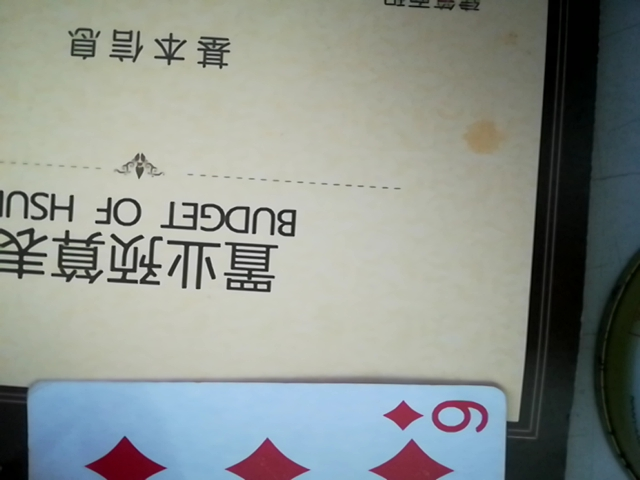fk 6: (19, 372, 536, 480)
